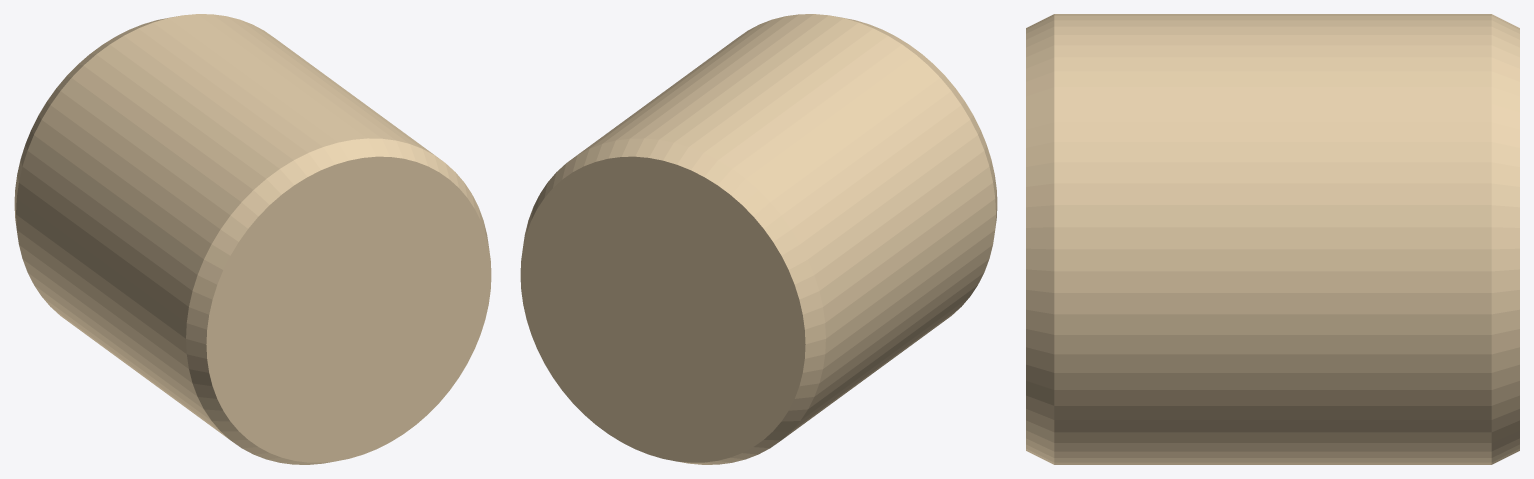
3 views of the same model, side by side, from view 1: azimuth 30°, elevation 25°; view 2: azimuth 150°, elevation 25°; view 3: azimuth 270°, elevation 25° (orthographic). The views are drawn at different scales.
Parts seen in each view (by area): view 1: g0; view 2: g0; view 3: g0.
Boxes of the visible parts, bbox=[...] form: g0: bbox=[14, 14, 491, 464]; g0: bbox=[520, 14, 997, 464]; g0: bbox=[1026, 14, 1519, 464].
Bounding box in the file's own units: 0.032 × 0.032 × 0.035.
